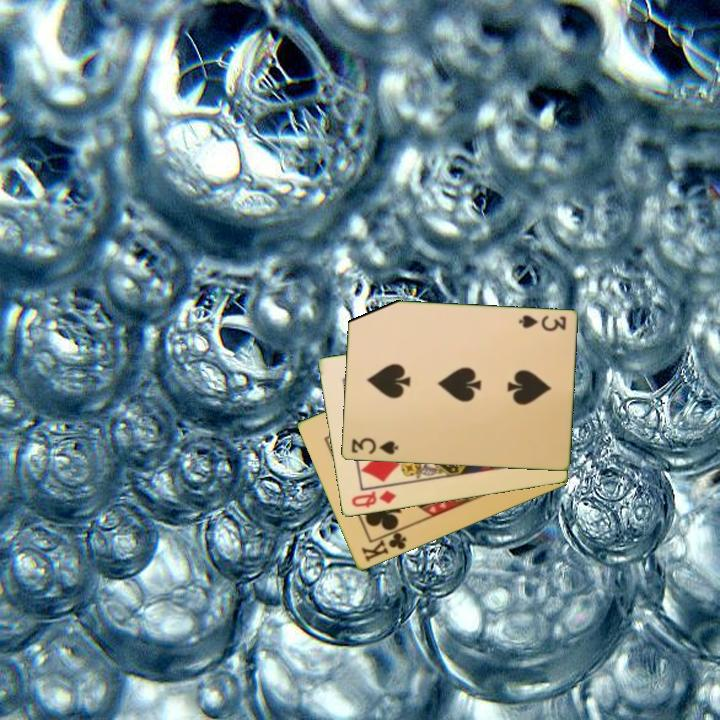3s: (347, 434, 401, 458), (515, 312, 569, 334)
Kc: (358, 525, 410, 565)
Qd: (348, 487, 399, 511)
